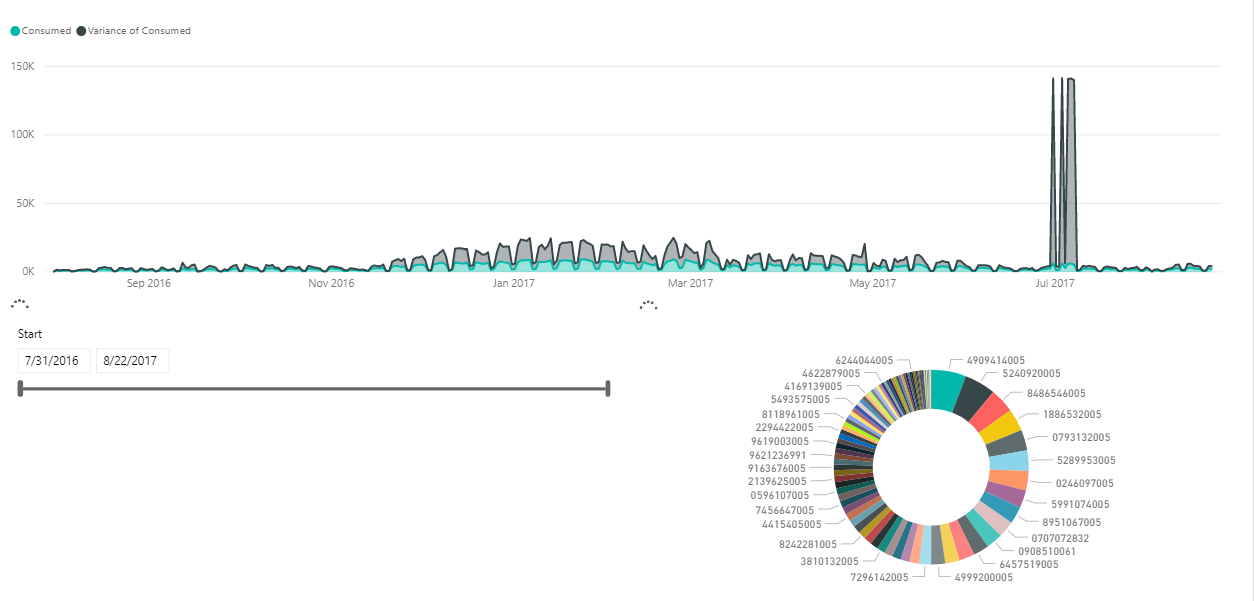

What the dashboard file says about the page in this screenshot:
{"tool":"powerbi","page":{"name":"Page 1","canvas":[1280,720],"ordinal":0},"visuals":[{"type":"stackedAreaChart","fields":{"Category":["ViewResourceIntervalReadings_SFUSD.Start"],"Y":["Sum(ViewResourceIntervalReadings_SFUSD.Consumed)","Variance(ViewResourceIntervalReadings_SFUSD.Consumed)"]},"box":[10.2,19.6,1252.7,308.7],"z":1},{"type":"donutChart","fields":{"Category":["ViewResourceIntervalReadings_SFUSD.PgeSaid"],"Y":["Sum(ViewResourceIntervalReadings_SFUSD.Consumed)"]},"box":[650.7,349.6,605.5,280.6],"z":2},{"type":"slicer","fields":{"Values":["ViewResourceIntervalReadings_SFUSD.Start"]},"box":[10.2,348.8,626.8,102.3],"z":3}]}

Visuals, with their boxes on the page's 1280x720 design canvas (x1, y1, x2, y2). These are canvas units, not pixel positions in the 1254x601 screenshot, which may show the page scaled, cropped or inside an application window:
stackedAreaChart - ViewResourceIntervalReadings_SFUSD.Start x Sum(ViewResourceIntervalReadings_SFUSD.Consumed): 10, 20, 1263, 328
donutChart - ViewResourceIntervalReadings_SFUSD.PgeSaid x Sum(ViewResourceIntervalReadings_SFUSD.Consumed): 651, 350, 1256, 630
slicer - ViewResourceIntervalReadings_SFUSD.Start: 10, 349, 637, 451
